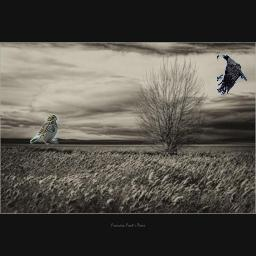Crow: (217, 55, 247, 95)
Sparrow: (30, 114, 59, 145)
